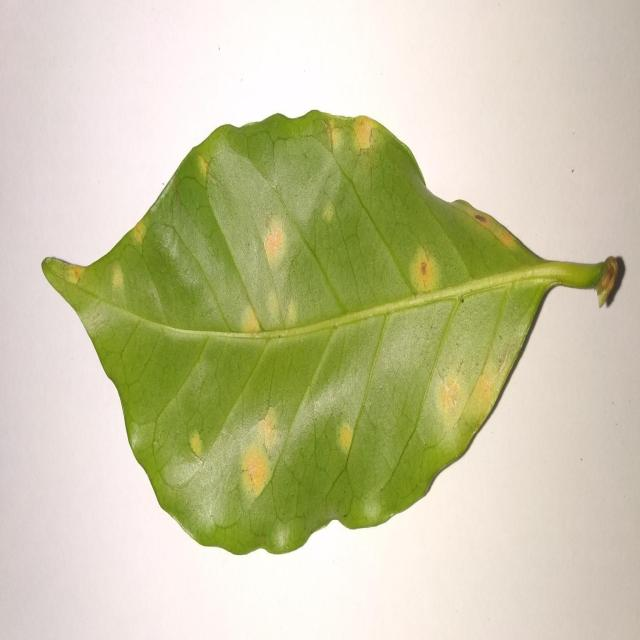Enfermedad-Roya: (40, 110, 627, 558)
